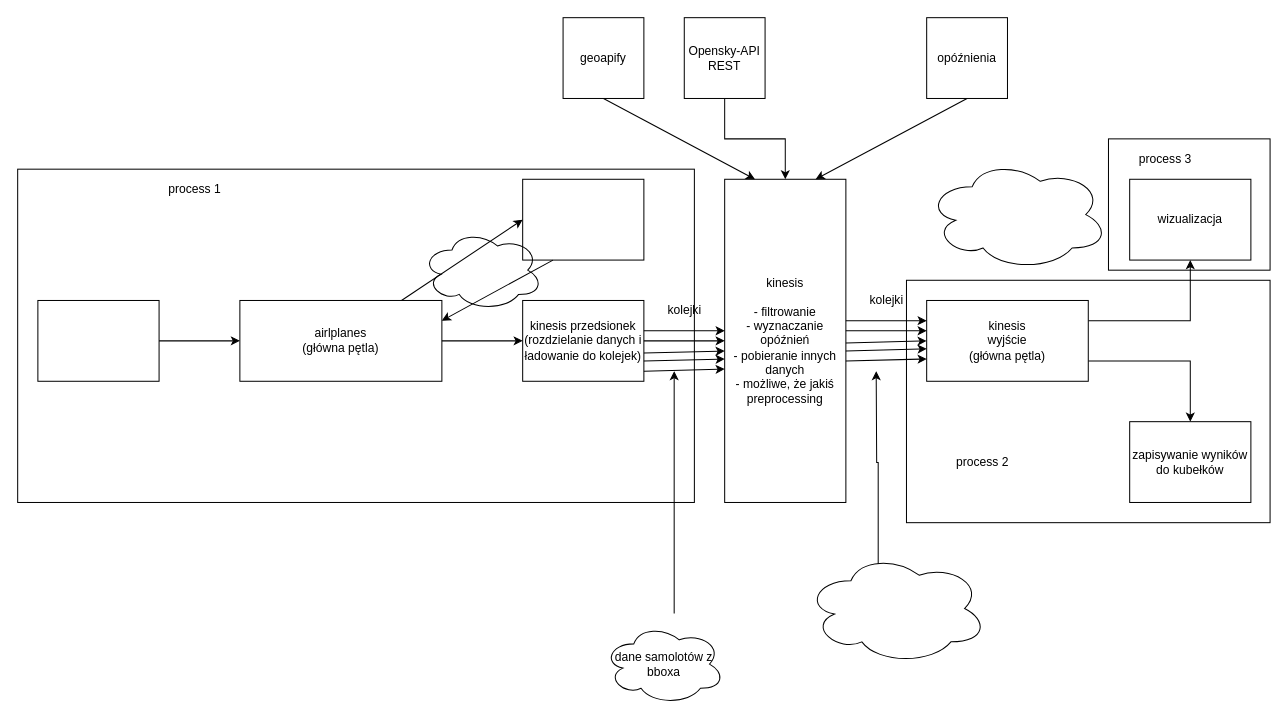
Some shapes in this 1288 by 722 pixel diagram are drawn without their labels. Here are the shapes that lost their labels. From the top down, the centre of each, then its label:
At point (583, 219): "Opensky-API".
At point (1017, 214): "listy danych do wizualizacji".
At point (482, 270): "lista danych samolotów z bboxa".
At point (98, 340): "main".
At point (895, 608): "dane samolotów z Polski".
